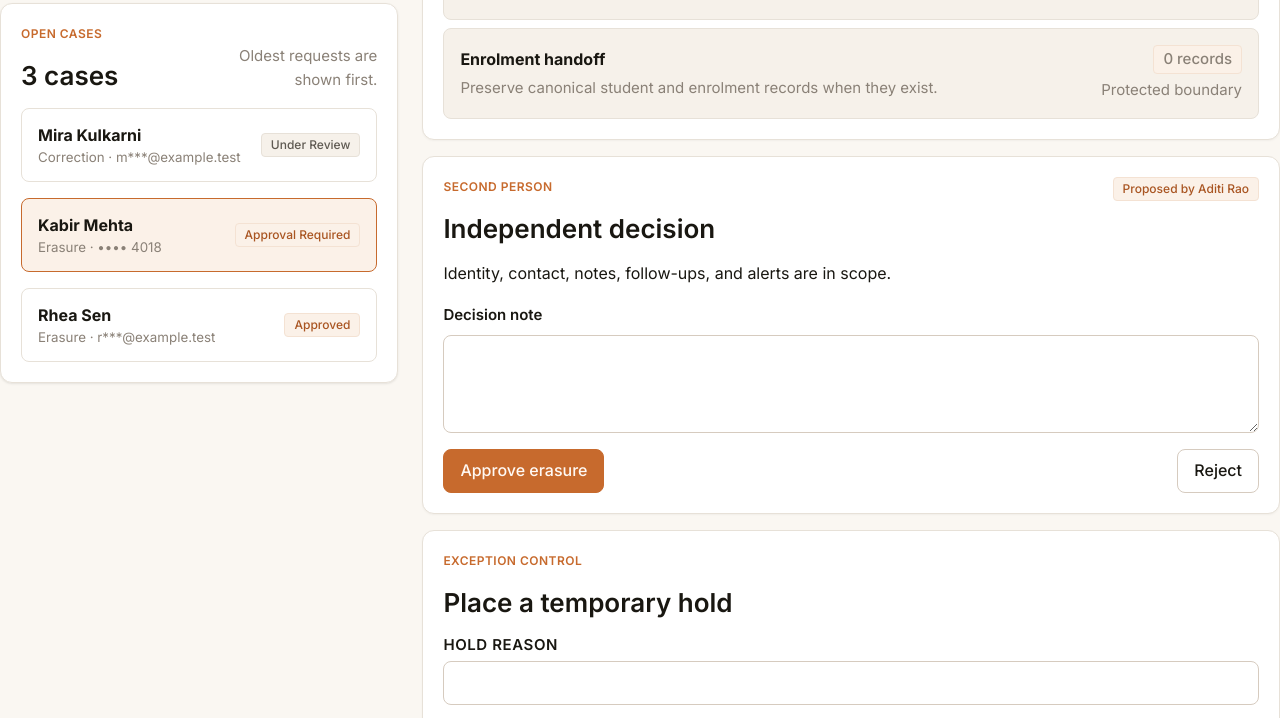
Scenario: CrmPrivacyPage › records an independent erasure approval after the dry run
This screenshot has width=1280, height=718.
(page scrolled)
Type "Scope and protected student boundary independently confirmed" into the text box labelled "Decision note".
click(851, 384); type("Scope and protected student boundary independently confirmed")  # box [443,335,1259,433]
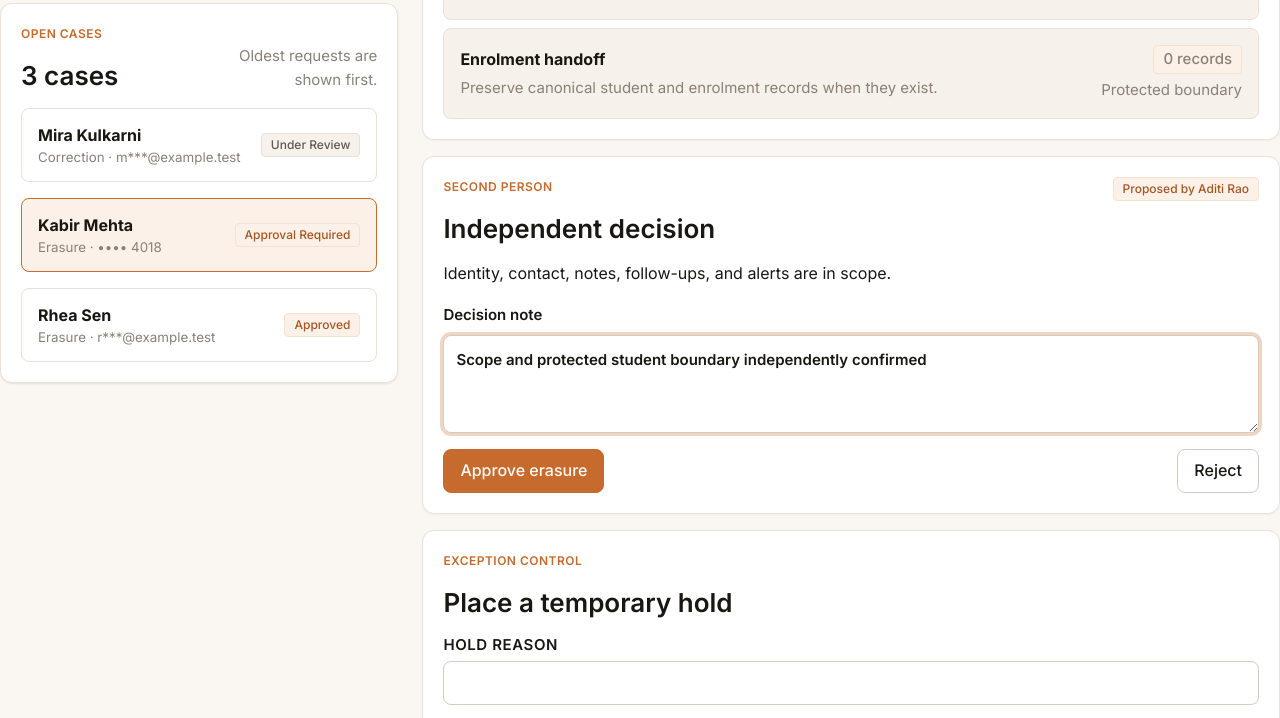
Click the button "Approve erasure".
click(524, 471)  # box [443,449,604,493]
(page scrolled)
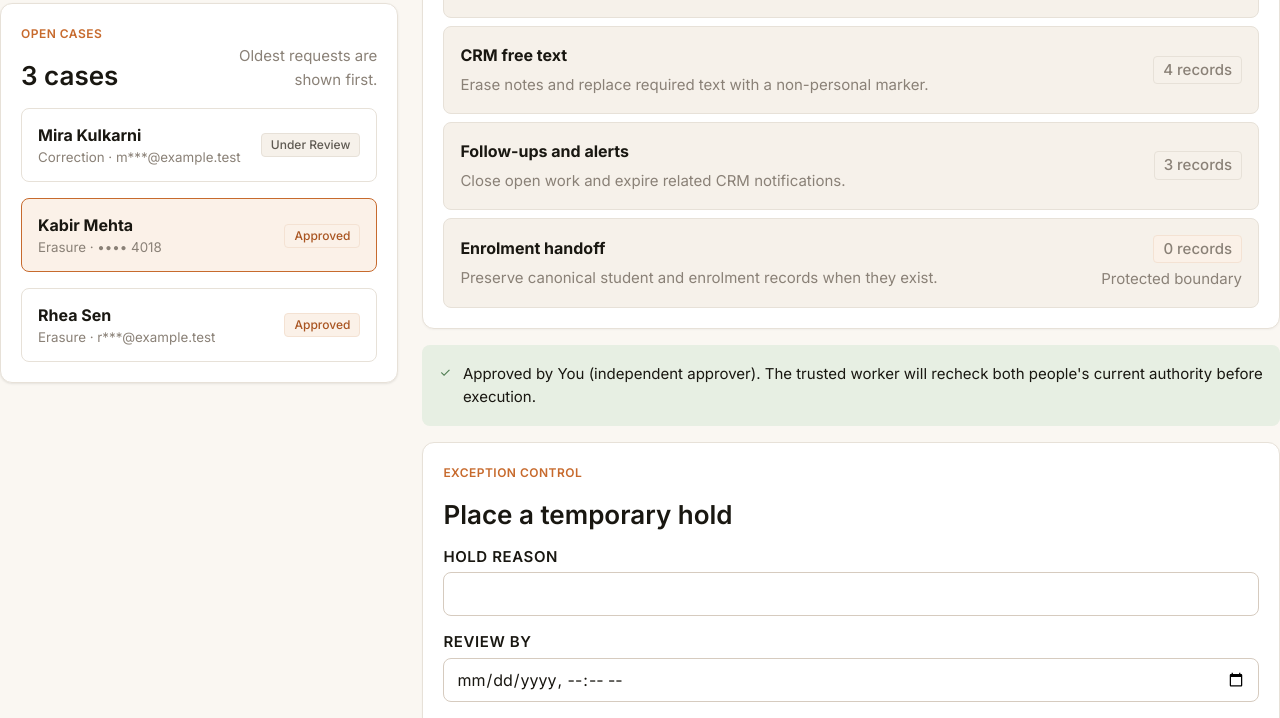
Expected: the text "Approved by You" is shown, [463,362,1263,408]
